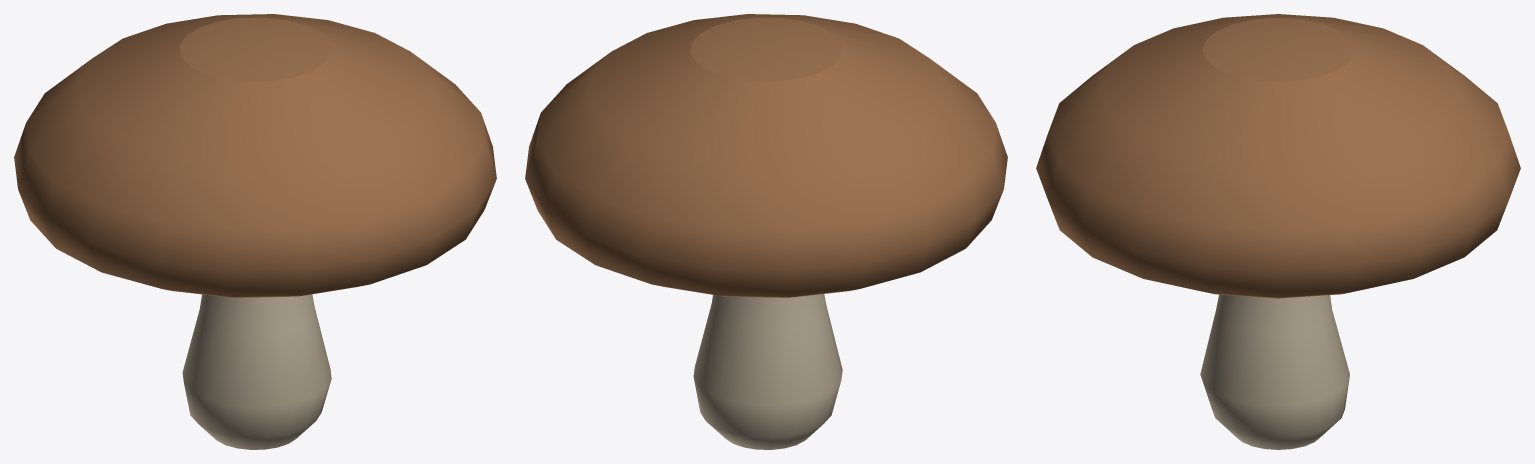
File: MushroomFBX.fbx
3 views of the same model, side by side, from view 1: azimuth 30°, elevation 25°; view 2: azimuth 150°, elevation 25°; view 3: azimuth 270°, elevation 25° (orthographic).
Parts seen in each view (by area): view 1: pCylinder3; view 2: pCylinder3; view 3: pCylinder3.
Boxes of the visible parts, box(x1,y1,x2,y2) form: pCylinder3: box(14, 14, 496, 449); pCylinder3: box(525, 14, 1007, 449); pCylinder3: box(1036, 14, 1520, 449).
Size of the model in its own units: 1.74 by 1.59 by 1.74.
